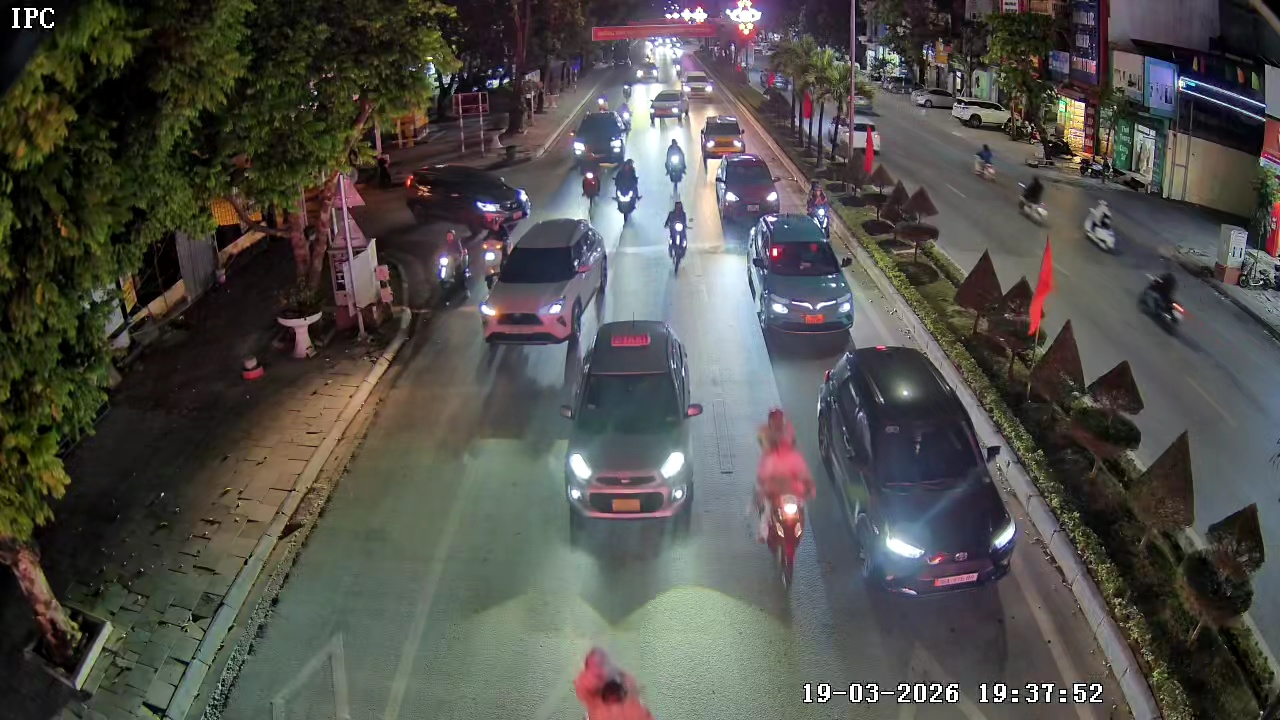bus: (700, 110, 745, 159)
car: (801, 345, 1034, 717), (573, 315, 712, 540), (480, 215, 610, 346), (744, 212, 856, 344), (403, 160, 531, 236), (713, 151, 782, 223), (572, 103, 628, 162), (647, 84, 687, 125)
motorbike: (742, 401, 813, 602), (1139, 270, 1186, 336), (612, 153, 644, 223), (667, 198, 690, 278), (662, 138, 693, 197)
